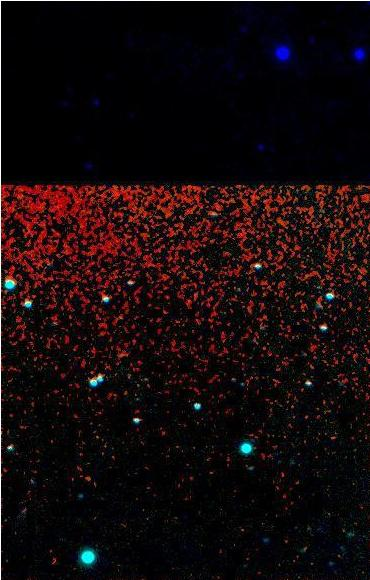star: (73, 464, 103, 494)
